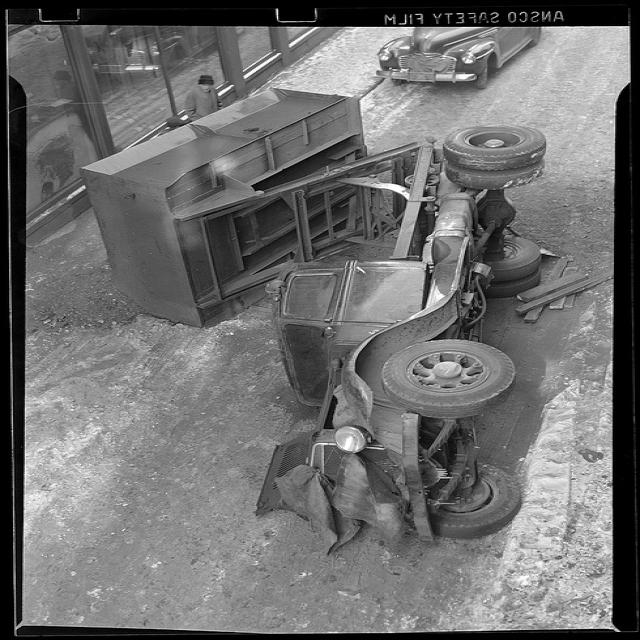Vehicle: (242, 128, 548, 545), (381, 27, 545, 88)
